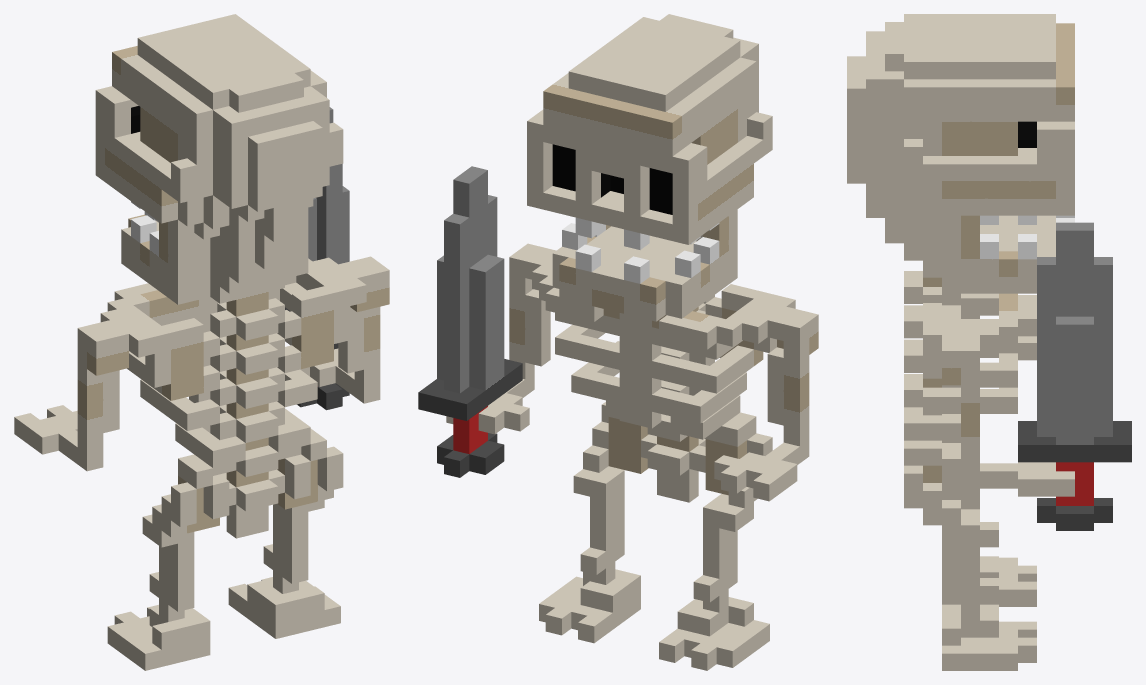
Rendered from skeletonIdle.dae.
The picture shows the model from 3 angles, left to right: view 1: azimuth 30°, elevation 25°; view 2: azimuth 150°, elevation 25°; view 3: azimuth 270°, elevation 25°; orthographic projection.
Parts seen in each view (by area): view 1: head-local, chest-local, legL-local, legR-local, armL-local, armR-local, sword-local; view 2: head-local, chest-local, sword-local, legL-local, legR-local, armL-local, armR-local; view 3: head-local, sword-local, chest-local, legR-local, armR-local, legL-local, armL-local.
Part boxes in pixels (box(x1,y1,x2,y2)): head-local: box(95, 14, 343, 316); chest-local: box(107, 258, 350, 488); legL-local: box(107, 470, 261, 670); legR-local: box(228, 446, 343, 638); armL-local: box(14, 309, 154, 471); armR-local: box(300, 256, 389, 403); sword-local: box(285, 107, 349, 410); head-local: box(527, 14, 772, 321); chest-local: box(539, 273, 778, 446); sword-local: box(418, 166, 522, 477); legL-local: box(659, 433, 772, 670); legR-local: box(539, 402, 673, 643); armL-local: box(714, 296, 818, 501); armR-local: box(446, 243, 556, 434); head-local: box(847, 14, 1074, 293); sword-local: box(1018, 222, 1131, 530); chest-local: box(904, 271, 1036, 465); legR-local: box(904, 451, 1036, 670); armR-local: box(923, 327, 1074, 496); legL-local: box(942, 441, 1036, 606); armL-local: box(961, 315, 1036, 360).
Bounding box in the file's own units: 20 × 34 × 15.
Materials: 7 (7 with a texture image).
